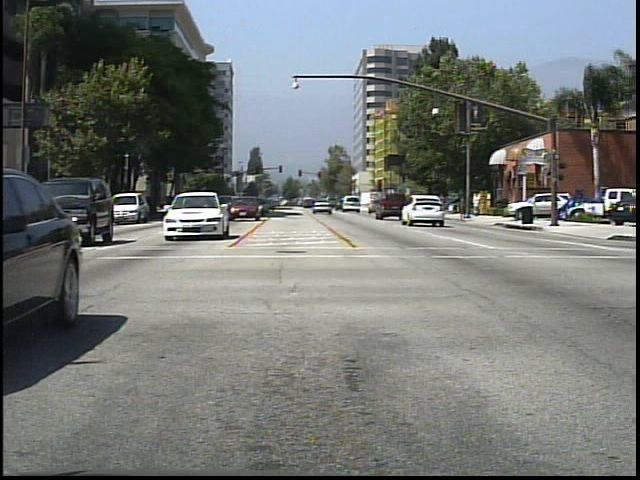person: (436, 191, 450, 219), (472, 191, 485, 218)
